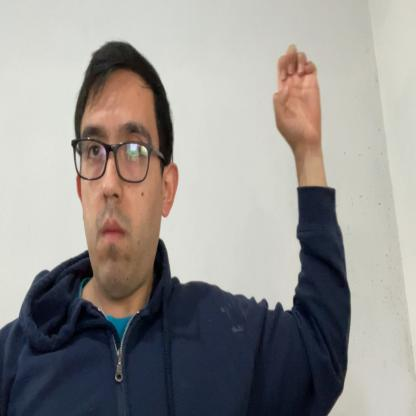E: (272, 46, 321, 151)
